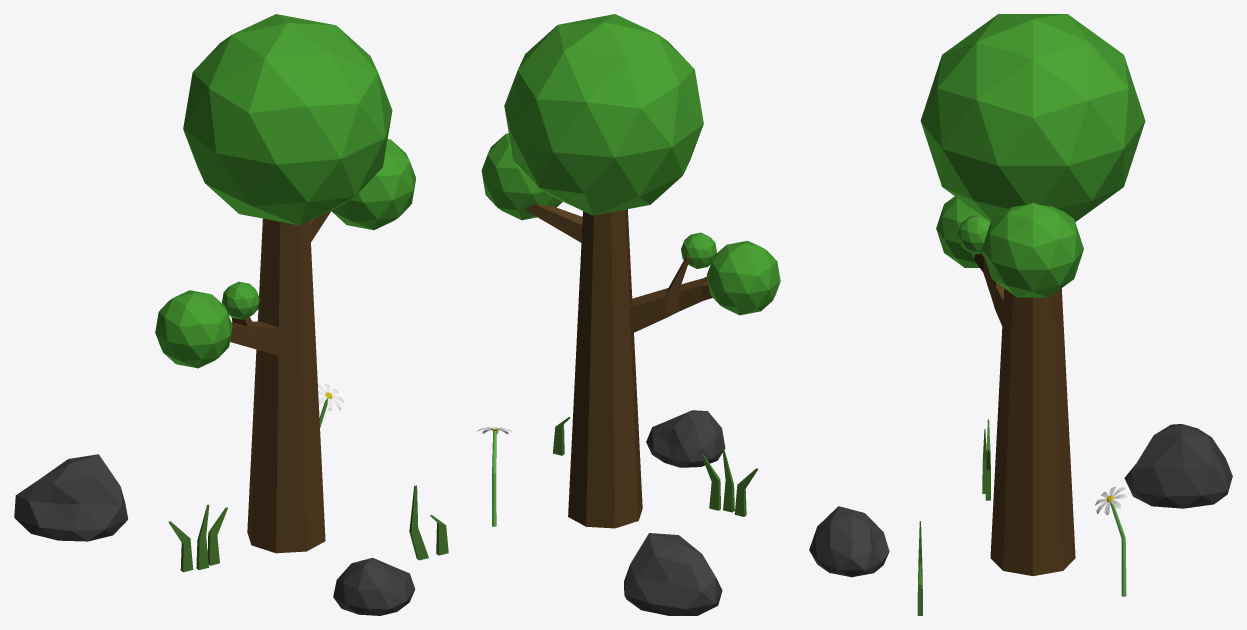
File: bigtree.dae
The picture shows the model from 3 angles, left to right: view 1: azimuth 30°, elevation 25°; view 2: azimuth 150°, elevation 25°; view 3: azimuth 270°, elevation 25°; orthographic projection. The views are drawn at different scales.
Visible parts, largest first — view 1: Cylinder, Icosphere_001, Icosphere, Cube, Cube_001; view 2: Cylinder, Icosphere_001, Icosphere, Cube, Cylinder_003; view 3: Cylinder, Icosphere_001, Icosphere, Cylinder_003, Cube.
Boxes of the visible parts, box(x1,y1,x2,y2) form: Cylinder: box(155, 14, 416, 553); Icosphere_001: box(14, 454, 127, 541); Icosphere: box(333, 557, 415, 615); Cube: box(168, 504, 227, 572); Cube_001: box(409, 485, 448, 560); Cylinder: box(481, 14, 780, 528); Icosphere_001: box(624, 533, 722, 615); Icosphere: box(646, 410, 725, 467); Cube: box(701, 450, 758, 516); Cylinder_003: box(477, 427, 511, 526); Cylinder: box(920, 14, 1145, 575); Icosphere_001: box(1124, 424, 1232, 508); Icosphere: box(809, 506, 889, 577); Cylinder_003: box(1095, 486, 1127, 596); Cube: box(982, 419, 990, 500).
Size of the model in its own units: 9.02 by 9.96 by 14.13.
